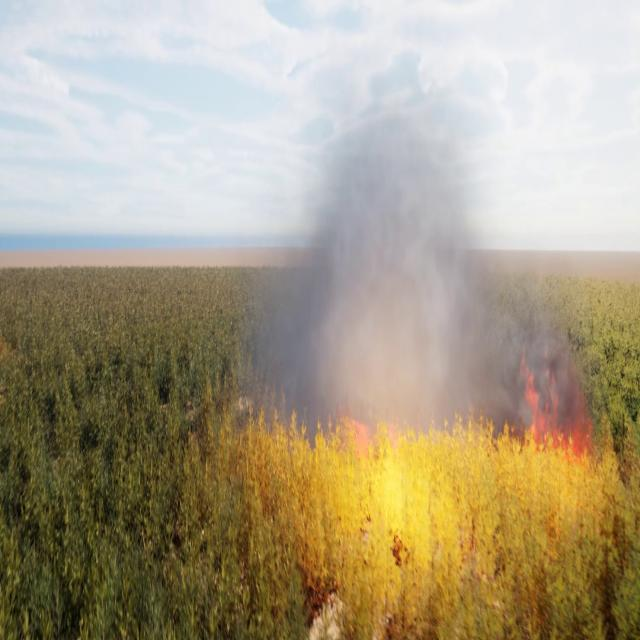fire: (275, 417, 617, 612), (520, 348, 590, 458)
smoke: (240, 69, 599, 434)
